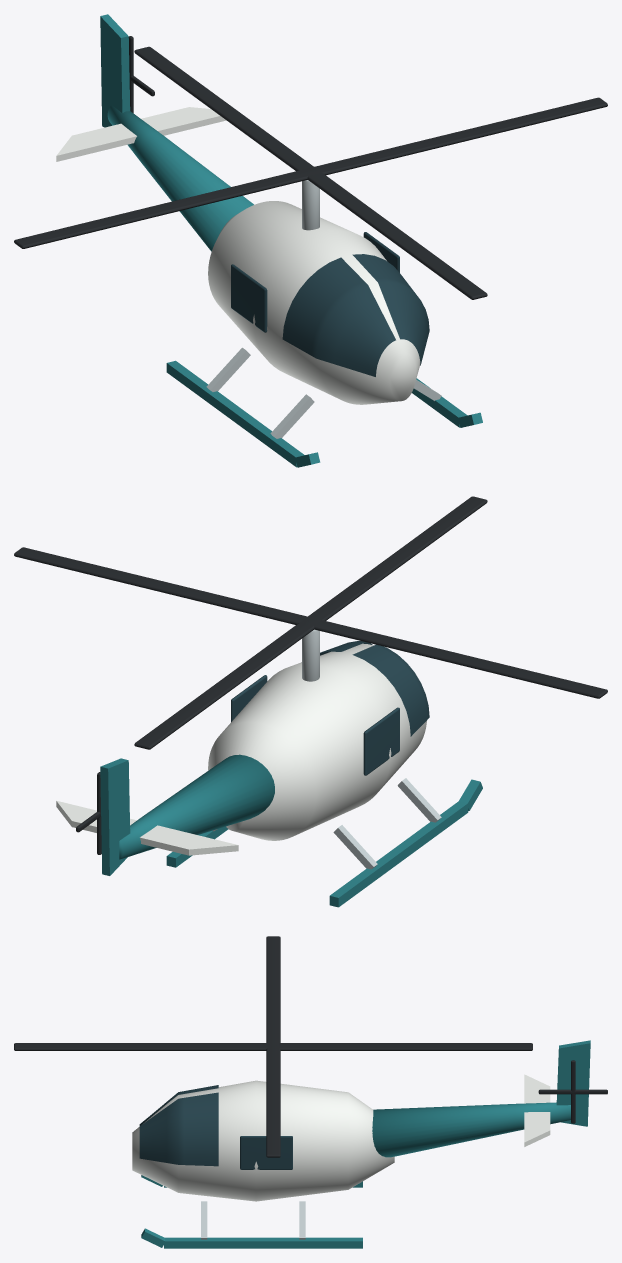
File: city-helicopter.glb
The picture shows the model from 3 angles, top to bottom: view 1: azimuth 30°, elevation 25°; view 2: azimuth 150°, elevation 25°; view 3: azimuth 270°, elevation 25°; orthographic projection. The views are drawn at different scales.
Visible parts, largest first — view 1: HelicopterBody, MainRotor; view 2: HelicopterBody, MainRotor; view 3: HelicopterBody, MainRotor, TailRotor.
Part boxes in pixels (x1,y1,x2,y2): HelicopterBody: (56,14,482,467); MainRotor: (14,46,607,299); HelicopterBody: (56,629,482,907); MainRotor: (14,496,607,749); HelicopterBody: (132,1040,590,1248); MainRotor: (14,936,532,1157); TailRotor: (538,1060,607,1123).
Size of the model in its own units: 9 by 3.34 by 10.3.
